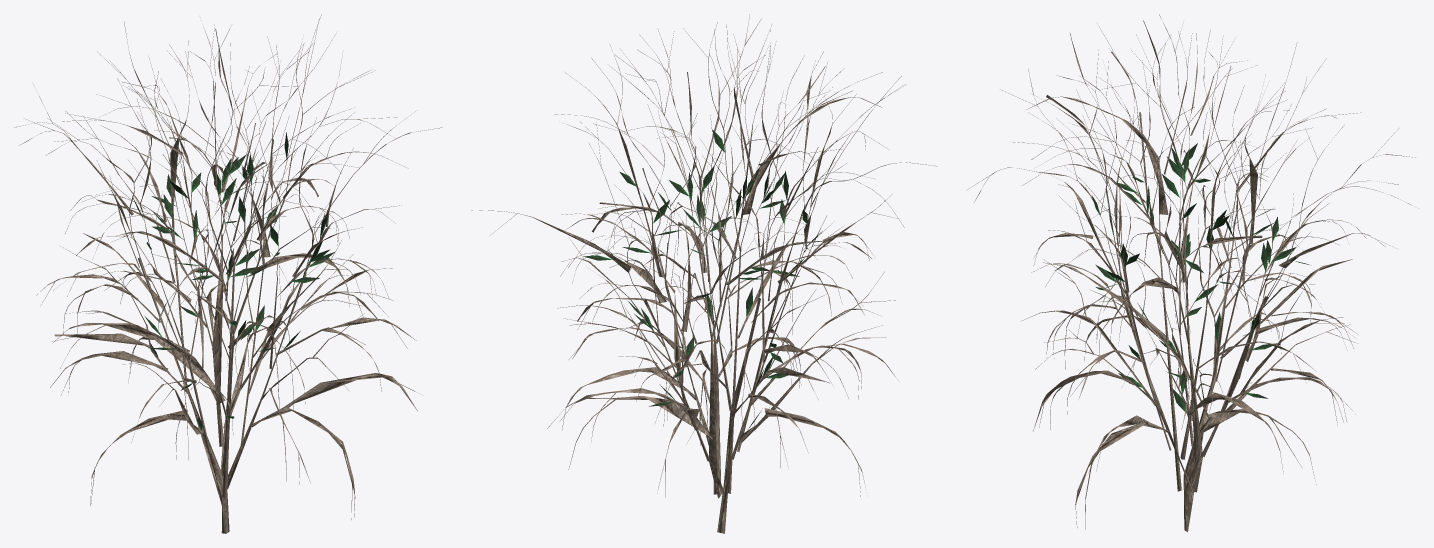
File: plant5.fbx
The picture shows the model from 3 angles, left to right: view 1: azimuth 30°, elevation 25°; view 2: azimuth 150°, elevation 25°; view 3: azimuth 270°, elevation 25°; orthographic projection. The views are drawn at different scales.
Parts seen in each view (by area): view 1: plant5.001; view 2: plant5.001; view 3: plant5.001.
Part boxes in pixels (x1=…): plant5.001: x1=14, y1=14, x2=442, y2=533; plant5.001: x1=471, y1=14, x2=937, y2=533; plant5.001: x1=966, y1=14, x2=1418, y2=532.
Size of the model in its own units: 550 by 788 by 653.
Materials: 2 (2 with a texture image).
